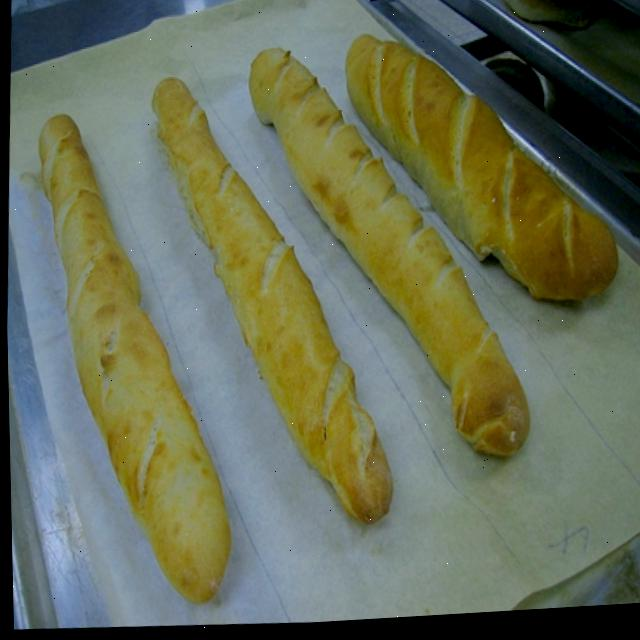面包点心: (0, 0, 631, 627)
